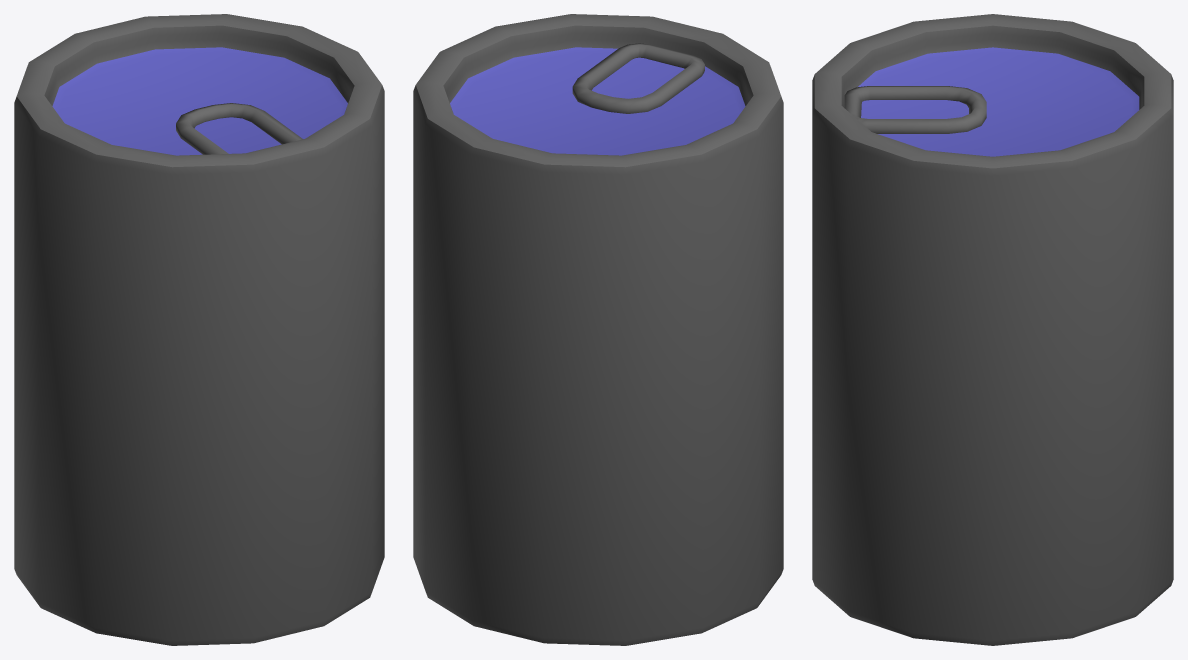
Rendered from SM_canned_food_01.fbx.
3 views of the same model, side by side, from view 1: azimuth 30°, elevation 25°; view 2: azimuth 150°, elevation 25°; view 3: azimuth 270°, elevation 25° (orthographic).
Parts seen in each view (by area): view 1: Cylinder030; view 2: Cylinder030; view 3: Cylinder030.
Boxes of the visible parts, box(x1,y1,x2,y2) form: Cylinder030: box(14, 14, 384, 645); Cylinder030: box(413, 14, 783, 645); Cylinder030: box(812, 14, 1173, 645).
Size of the model in its own units: 8.18 by 11.73 by 7.97.
